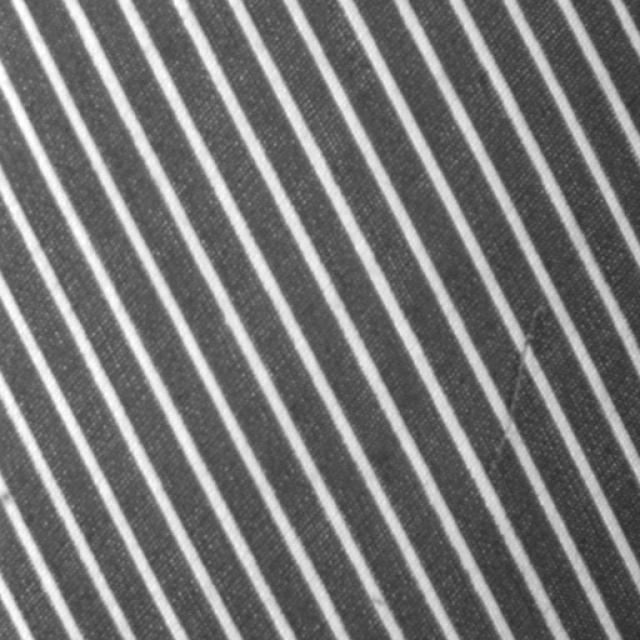Foreign-Body-Defect: (484, 299, 548, 484)
